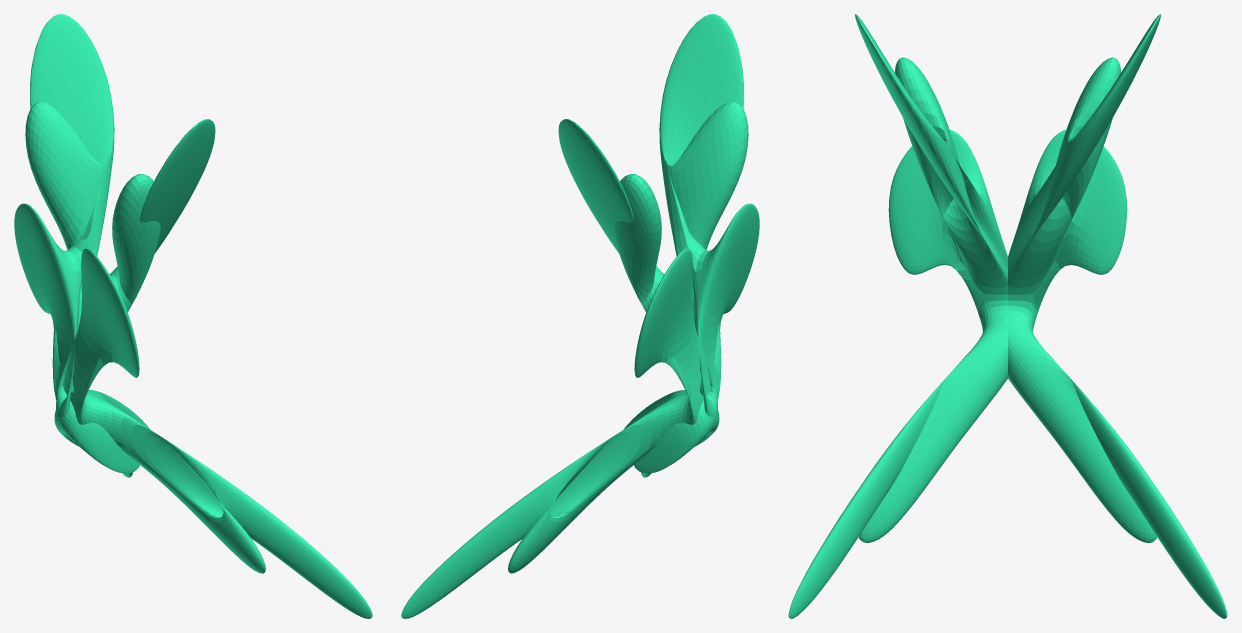
Rendered from Creaturestruc10.obj.
3 views of the same model, side by side, from view 1: azimuth 30°, elevation 25°; view 2: azimuth 150°, elevation 25°; view 3: azimuth 270°, elevation 25° (orthographic). The views are drawn at different scales.
Visible parts, largest first — view 1: Cube_Cube.011; view 2: Cube_Cube.011; view 3: Cube_Cube.011.
Part boxes in pixels (bbox=[...]): Cube_Cube.011: bbox=[14, 14, 372, 618]; Cube_Cube.011: bbox=[401, 14, 759, 618]; Cube_Cube.011: bbox=[788, 14, 1227, 618].
Bounding box in the file's own units: 10.24 × 23.73 × 17.66.
